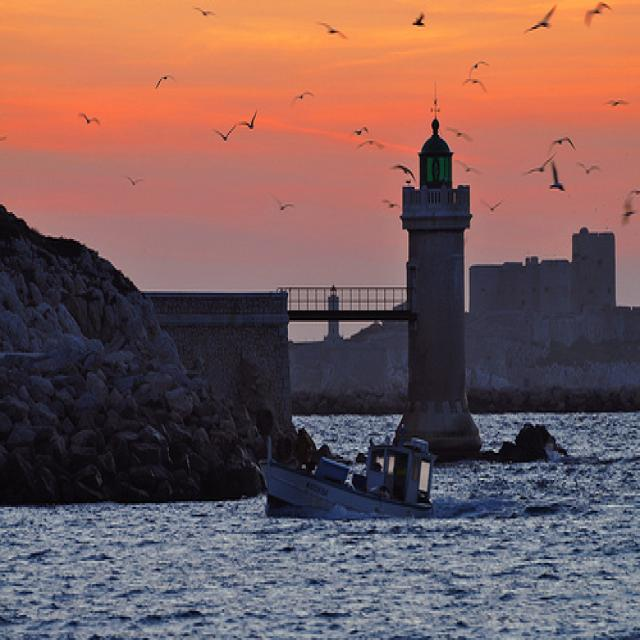Boat: (242, 405, 463, 549)
